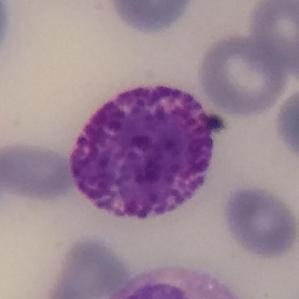Basophil: (60, 72, 234, 233)
Monocyte: (107, 262, 242, 299)
RBC: (195, 32, 293, 118), (220, 183, 299, 259), (41, 235, 132, 299), (0, 140, 74, 203), (245, 0, 298, 67), (106, 0, 194, 36), (272, 84, 299, 164), (0, 0, 14, 62)
